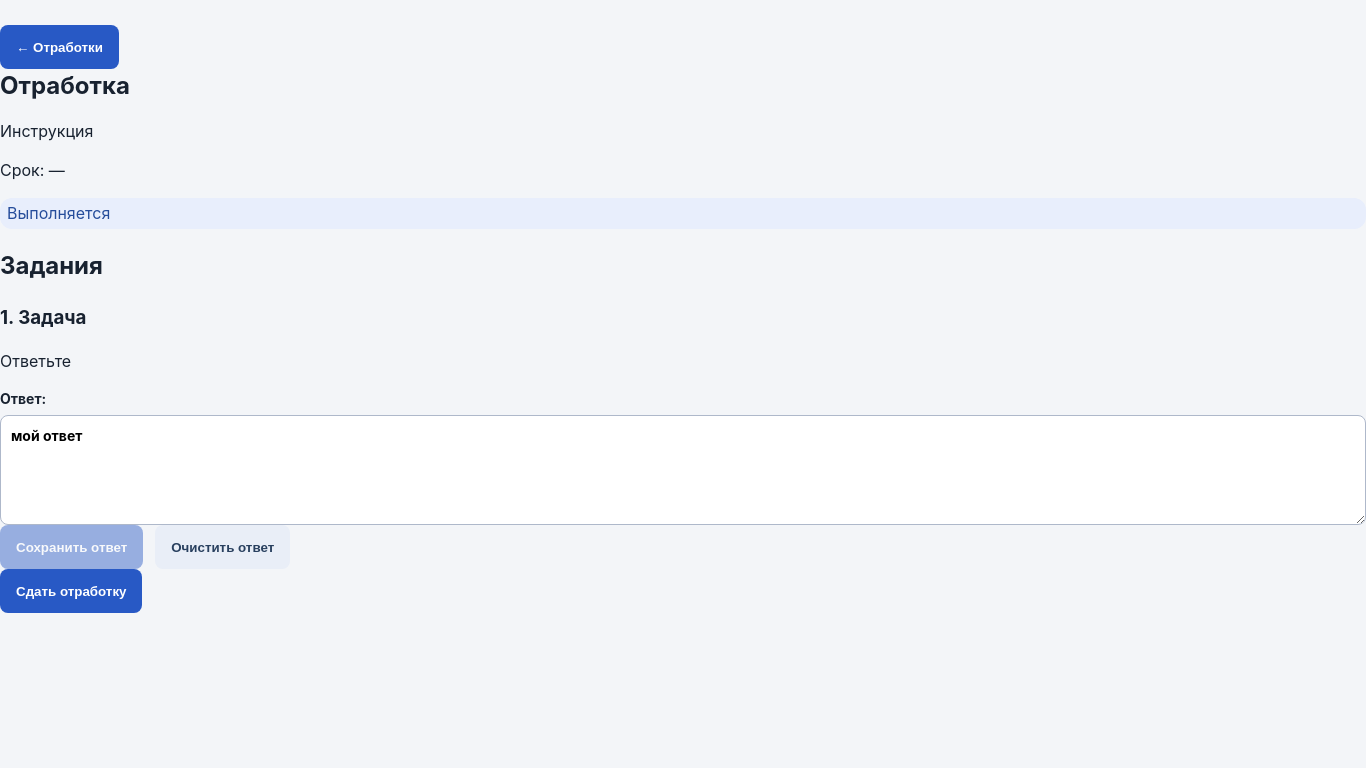
Test case: requires explicit confirmation and supports cancellation without submission
Click the button "Сдать отработку": [71, 591] box [0,569,142,613]
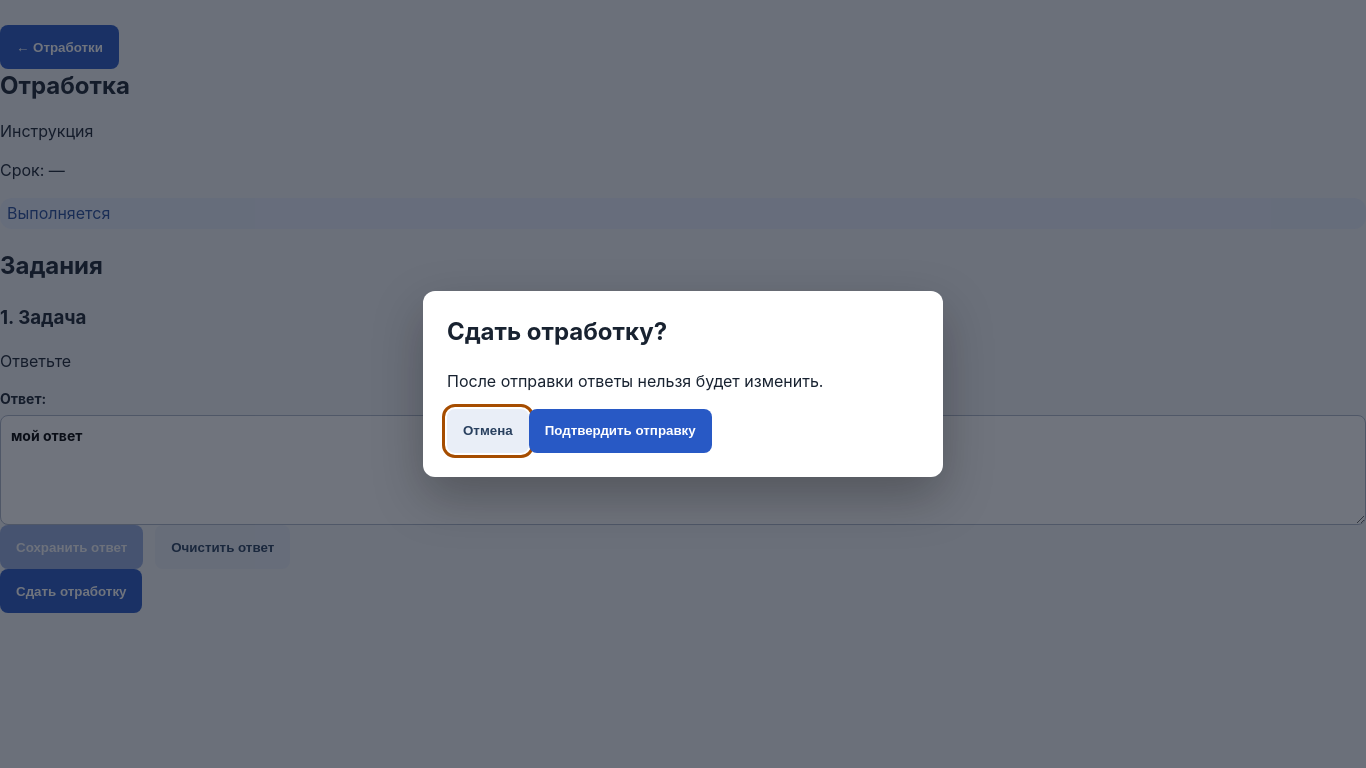
Expected: the dialog is shown, [423,291,943,477]
Click the button "Отмена": [488, 431] box [447,409,529,453]
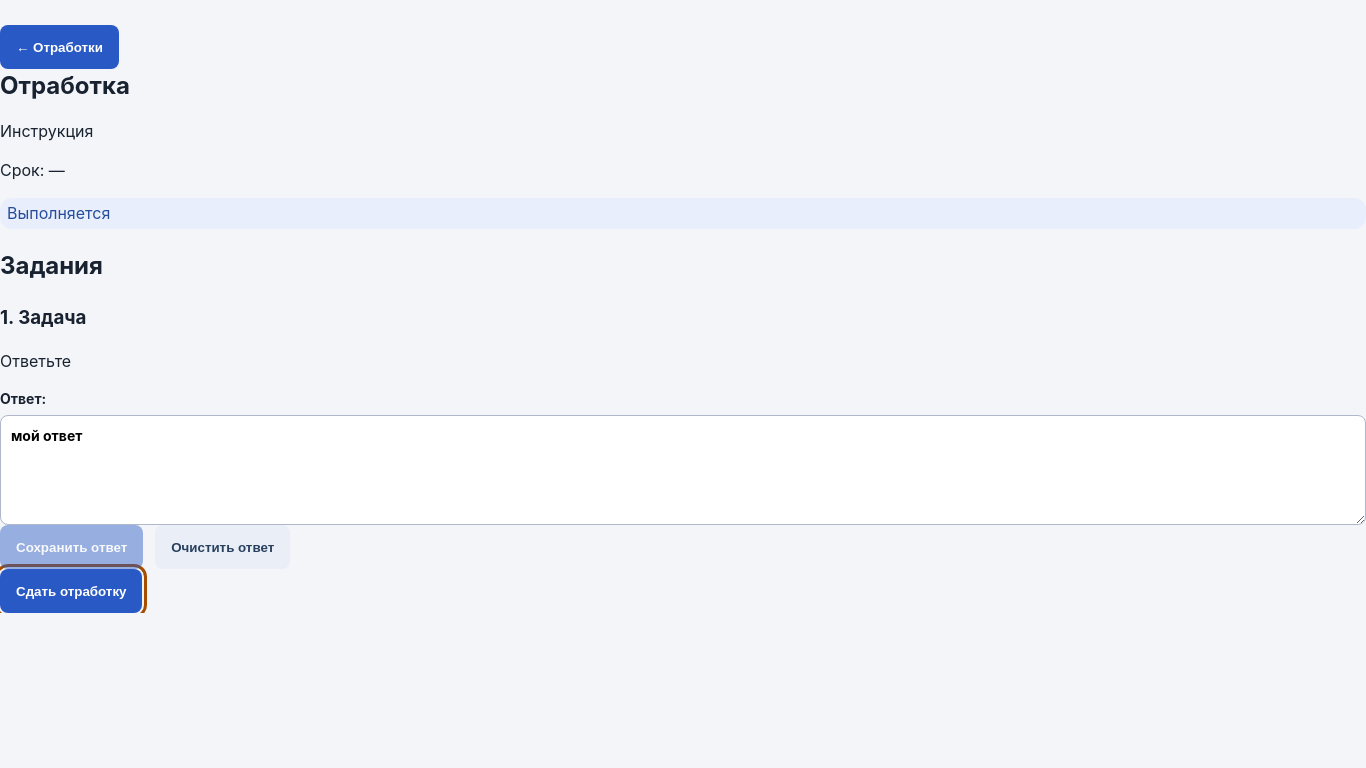
Expected: the dialog is gone
